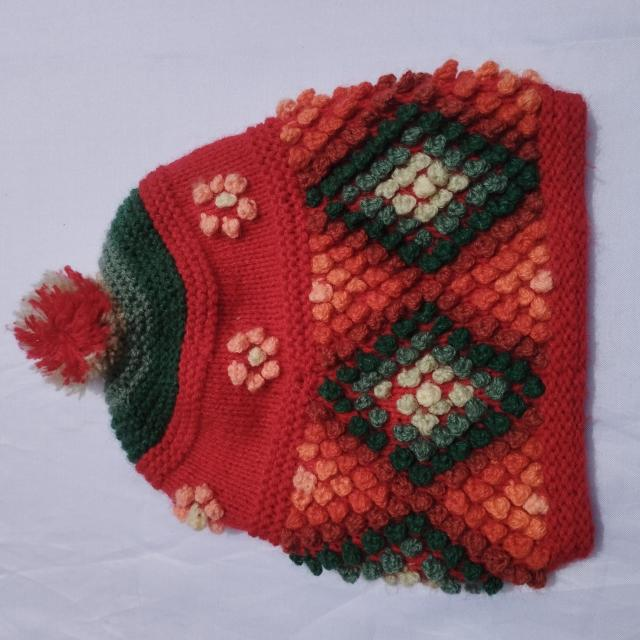Gorro: (9, 58, 596, 596)
